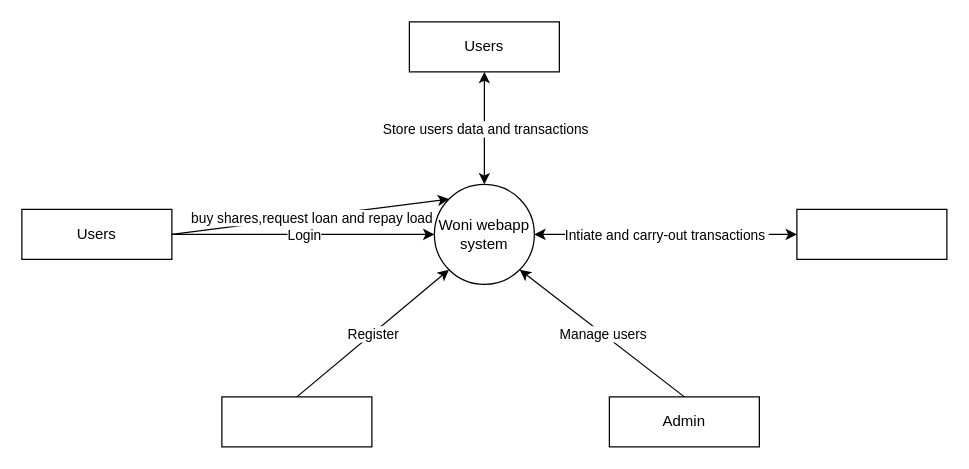
Image size: 969x469. Some labels were removed from this diagram. Each missing label, with the box of its shape:
Daraja: (796, 208, 947, 259)
Non-users: (221, 396, 372, 447)
